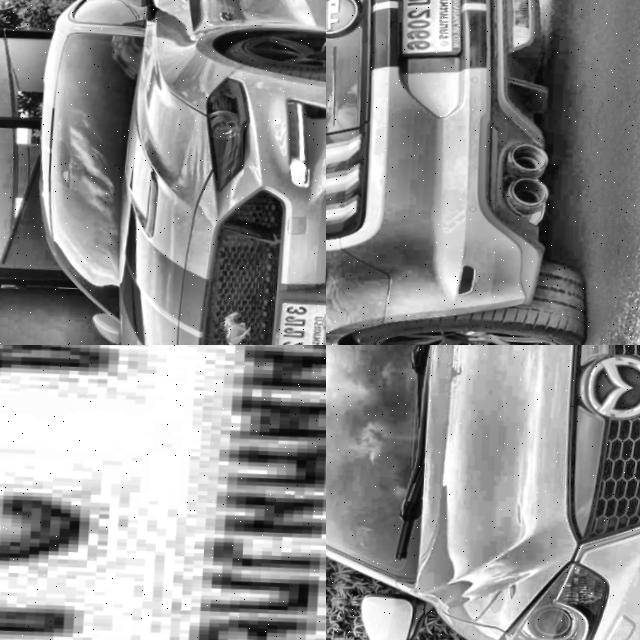license-plate: (0, 345, 326, 640), (390, 0, 467, 64), (270, 297, 326, 345)
